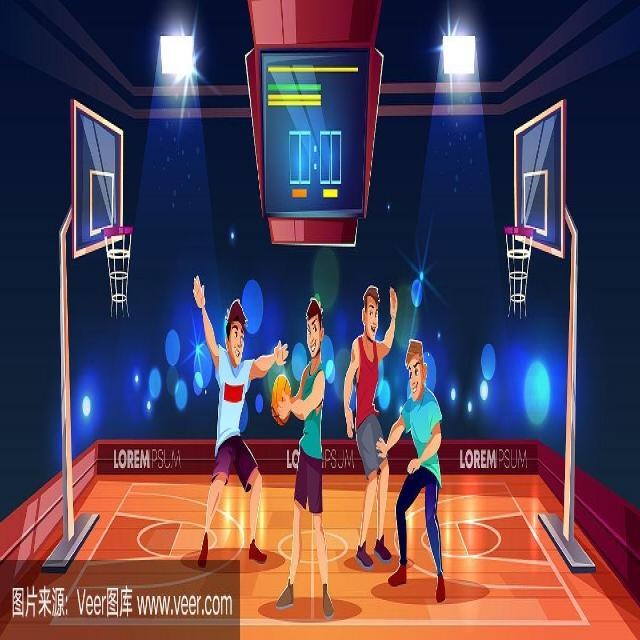rim: (272, 376, 292, 423)
